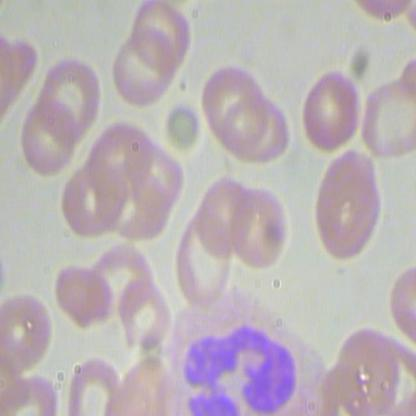RBC: (309, 148, 389, 266), (106, 27, 188, 114), (198, 55, 268, 151), (225, 184, 296, 274), (294, 70, 361, 158), (16, 98, 83, 179), (59, 157, 124, 239), (39, 53, 99, 136), (124, 142, 190, 212), (113, 278, 172, 352), (54, 263, 114, 331), (110, 175, 171, 241)
WBC: (159, 283, 331, 415)
